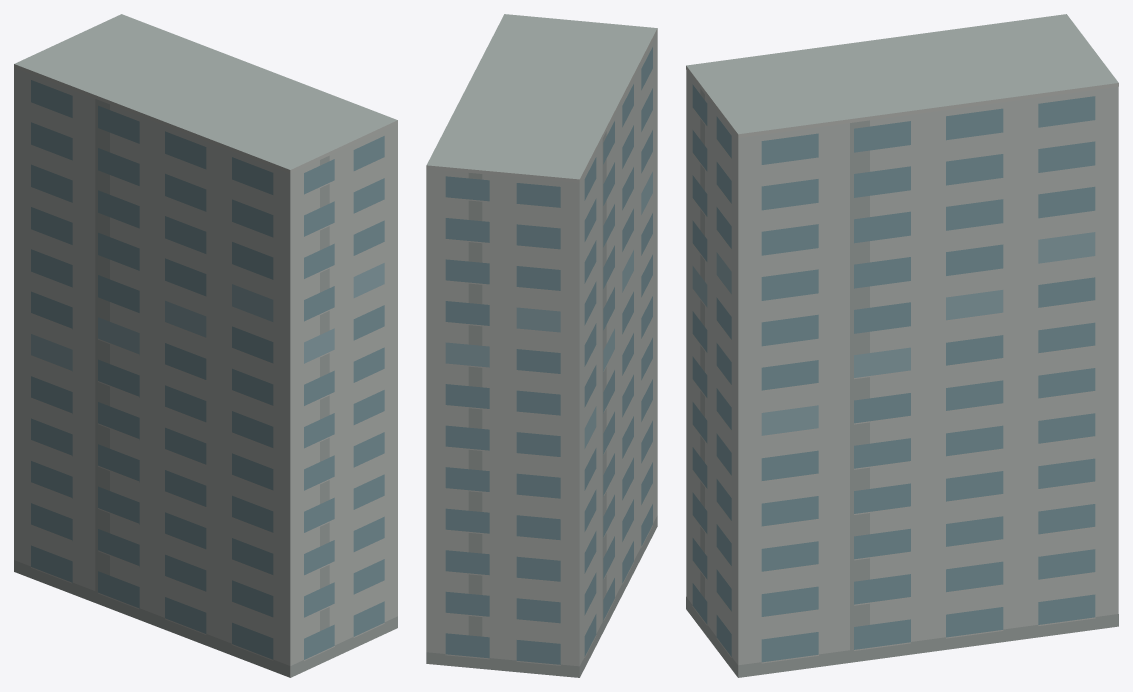
The model's file is residential-38594402-0ca3-453f-b832-26f149c4a46c.glb.
The picture shows the model from 3 angles, left to right: view 1: azimuth 30°, elevation 25°; view 2: azimuth 150°, elevation 25°; view 3: azimuth 270°, elevation 25°; orthographic projection. The views are drawn at different scales.
Visible parts, largest first — view 1: residential-38594402-0ca3-453f-b832-26f149c4a46c.tmp; view 2: residential-38594402-0ca3-453f-b832-26f149c4a46c.tmp; view 3: residential-38594402-0ca3-453f-b832-26f149c4a46c.tmp.
Boxes of the visible parts, <box> form: residential-38594402-0ca3-453f-b832-26f149c4a46c.tmp: <box>14,14,397,677</box>; residential-38594402-0ca3-453f-b832-26f149c4a46c.tmp: <box>426,14,657,677</box>; residential-38594402-0ca3-453f-b832-26f149c4a46c.tmp: <box>686,14,1118,677</box>.
Bounding box in the file's own units: 16.14 × 34 × 24.54.
